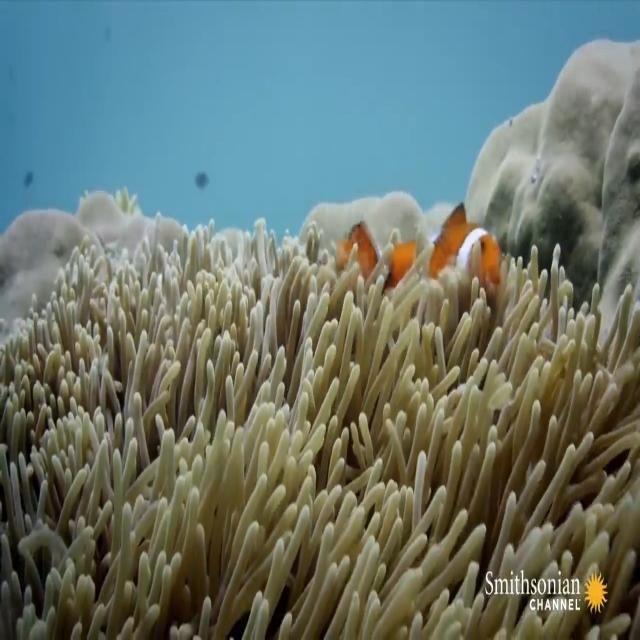Clownfish: (426, 200, 500, 283), (336, 226, 417, 282)
